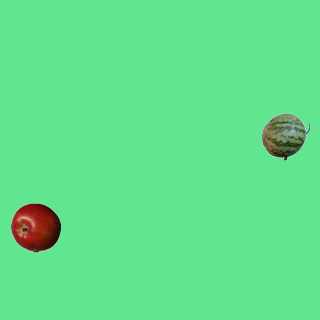Apple Braeburn: (10, 202, 60, 252)
Watermelon: (260, 111, 310, 161)
